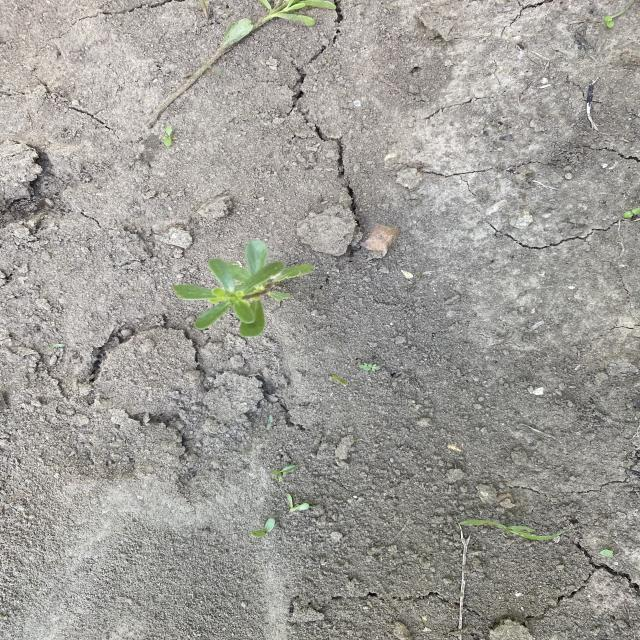Purslane: (167, 238, 317, 339)
